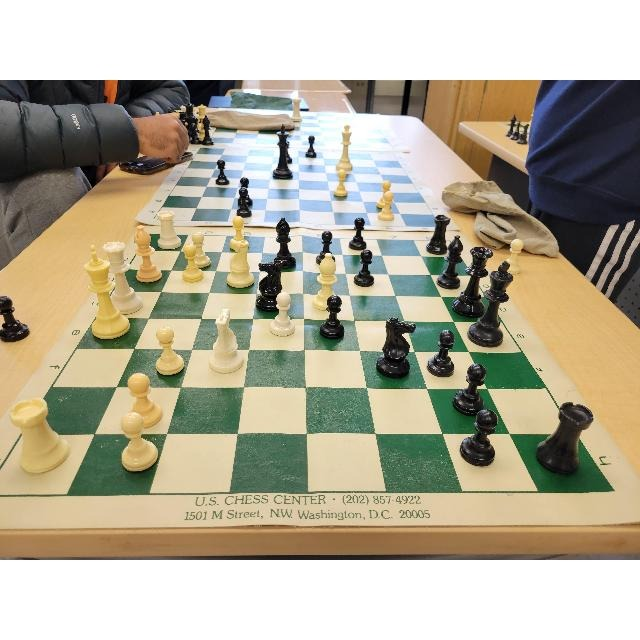black-bishop: (437, 229, 469, 291), (270, 210, 302, 270)
black-king: (468, 257, 515, 351), (271, 120, 295, 182)
black-knight: (375, 314, 417, 382), (252, 258, 290, 316)
black-pawn: (457, 404, 501, 474), (0, 287, 35, 355), (452, 360, 489, 420), (425, 326, 459, 379), (316, 293, 346, 342), (352, 247, 377, 289), (316, 228, 336, 265), (231, 187, 254, 219), (349, 214, 366, 252), (214, 156, 232, 188), (238, 175, 251, 207), (304, 133, 319, 156)
black-queen: (450, 243, 493, 319)
black-rook: (527, 391, 607, 480), (423, 210, 454, 258)
white-bishop: (129, 223, 166, 286)
white-king: (79, 242, 130, 339), (333, 122, 356, 172)
white-knight: (203, 301, 246, 379), (223, 235, 256, 293)
white-pawn: (114, 410, 161, 474), (123, 371, 163, 429), (153, 324, 188, 378), (266, 289, 299, 339), (178, 243, 206, 287), (498, 236, 528, 276), (185, 226, 212, 267), (378, 190, 396, 223), (333, 166, 349, 200), (379, 178, 393, 208)
white-queen: (102, 237, 142, 317)
white-rook: (6, 393, 76, 486), (154, 208, 184, 252), (290, 96, 304, 122)
